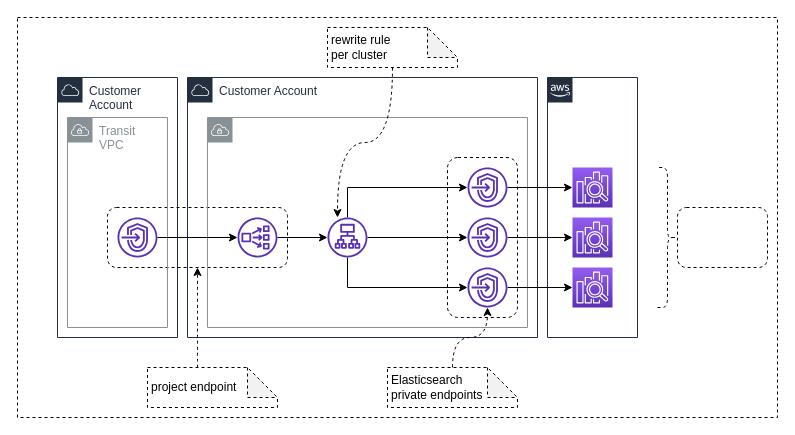
This 795x435 diagram has some shape labels left out. Here are the shapes that lost their labels. From the top down, the box of each, then its label:
(206, 116, 528, 328): Project VPC
(546, 76, 638, 338): AWS Account
(676, 206, 768, 268): Different Elasticsearch clusters
